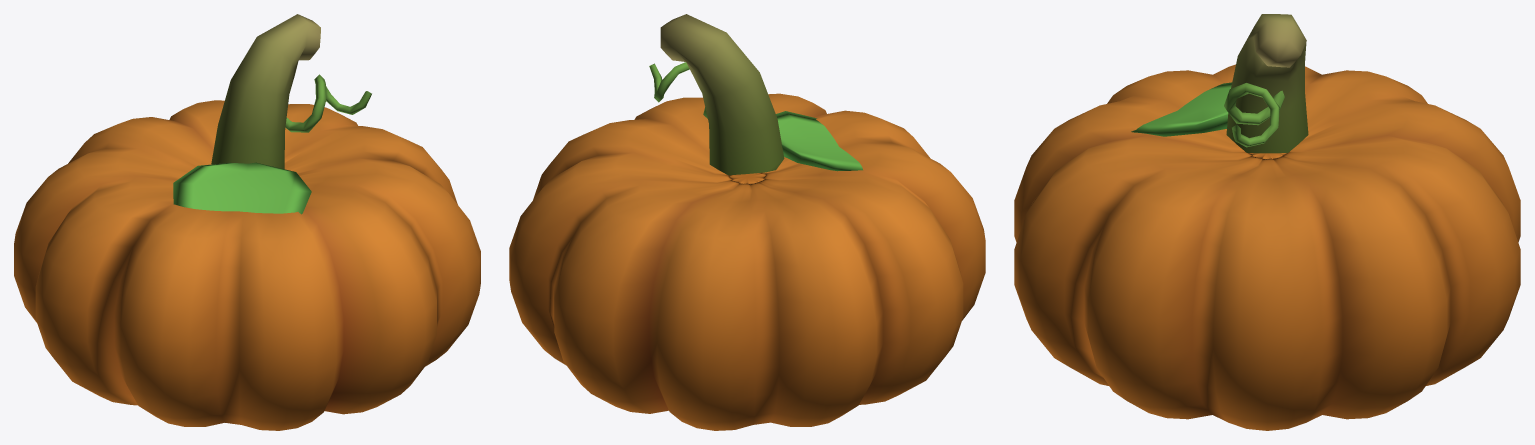
The model's file is item_veg_pumpkin.glb.
3 renders of one model, left to right at view 1: azimuth 30°, elevation 25°; view 2: azimuth 150°, elevation 25°; view 3: azimuth 270°, elevation 25°, orthographic. The views are drawn at different scales.
Parts seen in each view (by area): view 1: item_veg_pumpkin_gloss, item_veg_pumpkin_main; view 2: item_veg_pumpkin_gloss, item_veg_pumpkin_main; view 3: item_veg_pumpkin_gloss, item_veg_pumpkin_main.
Boxes of the visible parts, bbox=[...] form: item_veg_pumpkin_gloss: bbox=[14, 100, 480, 430]; item_veg_pumpkin_main: bbox=[173, 14, 371, 214]; item_veg_pumpkin_gloss: bbox=[509, 93, 985, 430]; item_veg_pumpkin_main: bbox=[649, 14, 862, 175]; item_veg_pumpkin_gloss: bbox=[1014, 64, 1520, 430]; item_veg_pumpkin_main: bbox=[1131, 14, 1308, 153].
Size of the model in its own units: 0.1591 by 0.1241 by 0.1534.
